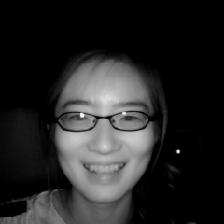happy: (43, 41, 168, 206)
